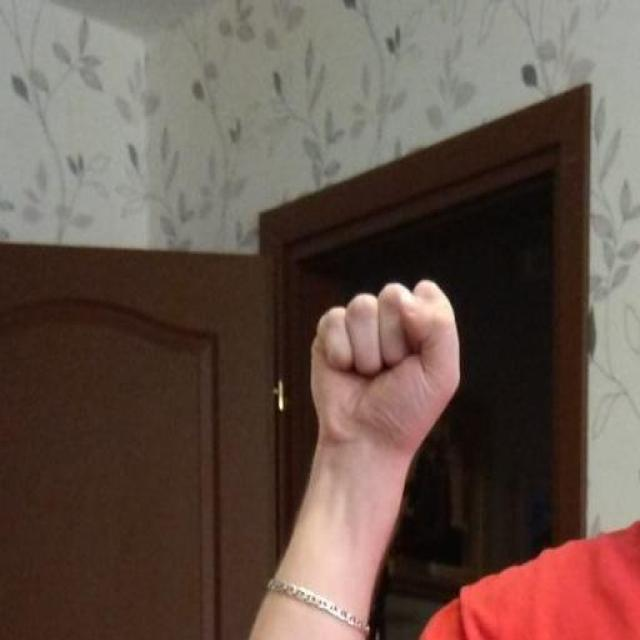hand: (308, 277, 462, 460)
